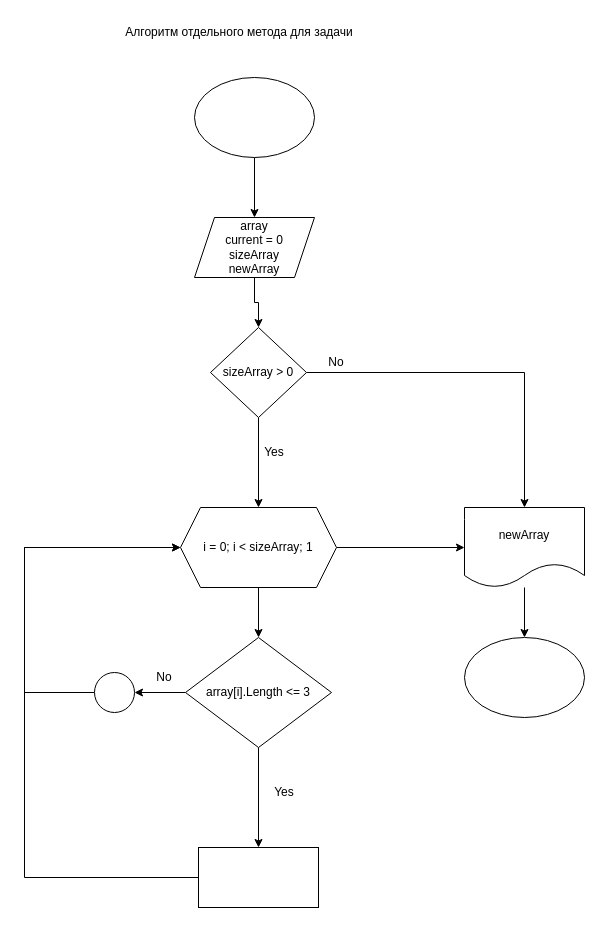
This 602x925 diagram has some shape labels left out. Here are the shapes that lost their labels. From the top down, the box of each, then its label:
(194, 76, 314, 158): начало
(464, 636, 584, 718): конец
(198, 846, 318, 908): newArray[current] = array[i] current = current + 1
